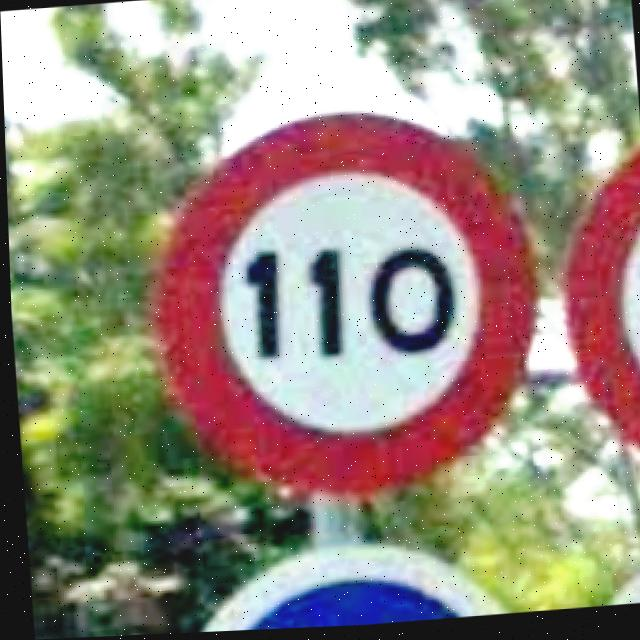max110: (132, 94, 545, 517)
